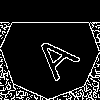A: (25, 25, 81, 82)
